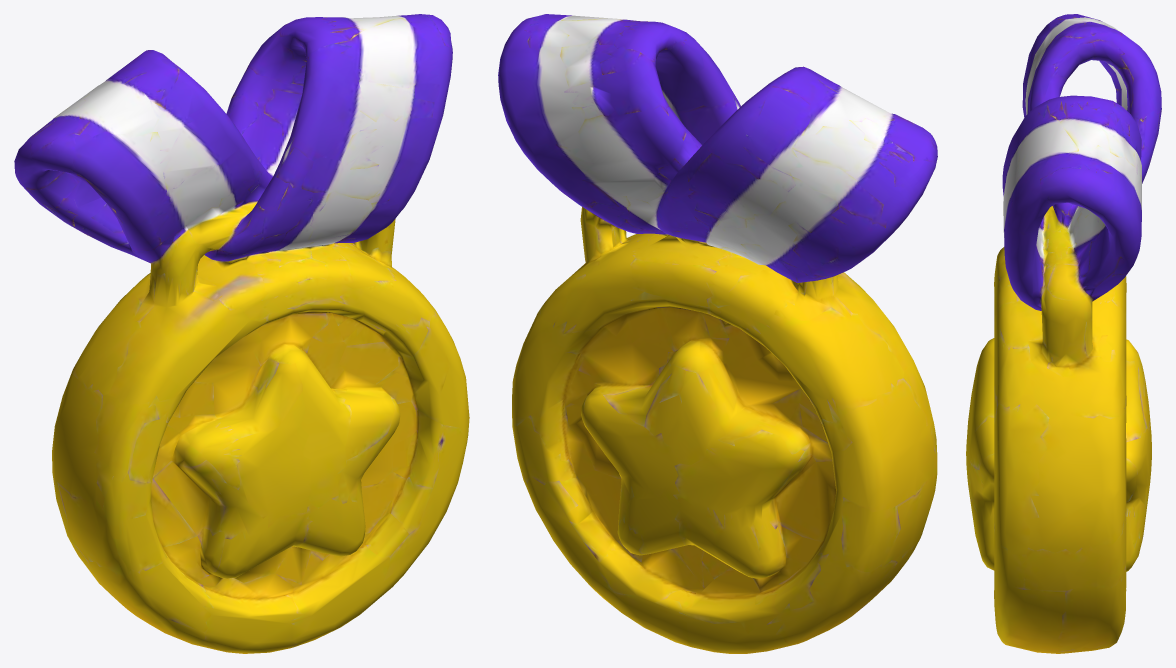
File: medali.glb
3 views of the same model, side by side, from view 1: azimuth 30°, elevation 25°; view 2: azimuth 150°, elevation 25°; view 3: azimuth 270°, elevation 25° (orthographic). The views are drawn at different scales.
Size of the model in its own units: 1.4 by 1.9 by 0.5928.
1 material, 1 textured.
